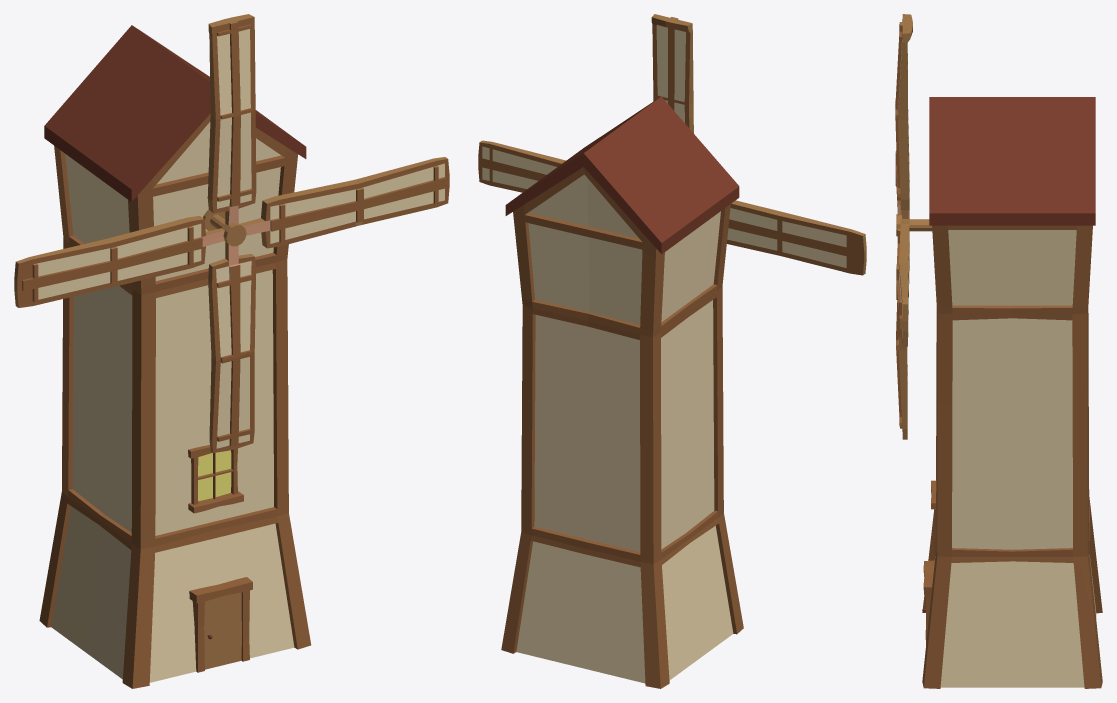
Rendered from windmill.fbx.
The picture shows the model from 3 angles, left to right: view 1: azimuth 30°, elevation 25°; view 2: azimuth 150°, elevation 25°; view 3: azimuth 270°, elevation 25°; orthographic projection. The views are drawn at different scales.
Visible parts, largest first — view 1: Windmill, Windmill.001; view 2: Windmill, Windmill.001; view 3: Windmill, Windmill.001.
Boxes of the visible parts, x1,y1,x2,y2 form: Windmill: (39, 25, 311, 688); Windmill.001: (14, 14, 449, 452); Windmill: (501, 96, 743, 688); Windmill.001: (478, 14, 866, 275); Windmill: (922, 97, 1102, 688); Windmill.001: (895, 14, 922, 439).
Size of the model in its own units: 1965 by 2838 by 856.
